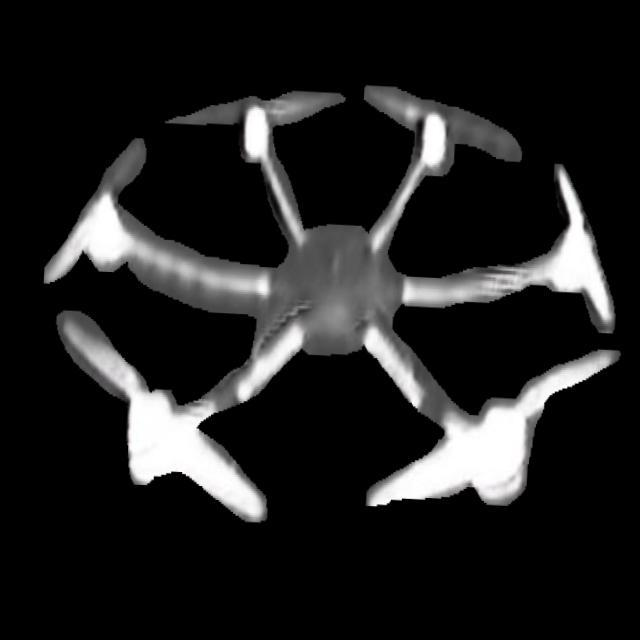drone: (19, 28, 639, 580)
